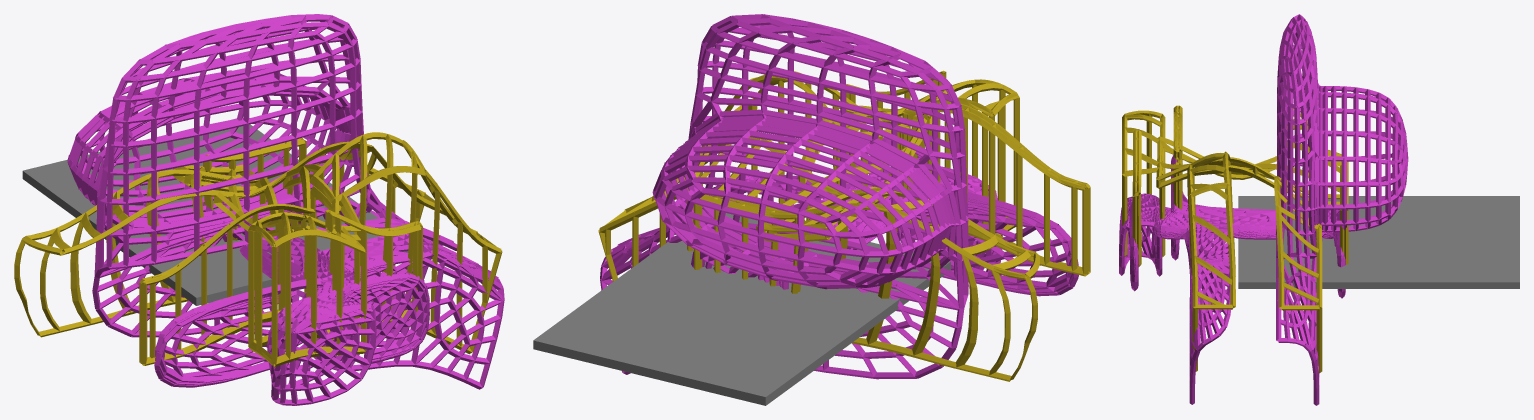
The model's file is max_out.FBX.
3 renders of one model, left to right at view 1: azimuth 30°, elevation 25°; view 2: azimuth 150°, elevation 25°; view 3: azimuth 270°, elevation 25°, orthographic. The views are drawn at different scales.
Visible parts, largest first — view 1: mesh, object 1, Box001; view 2: mesh, Box001, object 1; view 3: mesh, Box001, object 1.
Boxes of the visible parts, <box> form: mesh: <box>67,14,504,405</box>; object 1: <box>14,132,502,367</box>; Box001: <box>22,118,408,305</box>; mesh: <box>600,14,1078,379</box>; Box001: <box>533,213,950,405</box>; object 1: <box>598,70,1090,381</box>; mesh: <box>1119,14,1408,405</box>; Box001: <box>1238,196,1519,288</box>; object 1: <box>1122,105,1348,373</box>.
Bounding box in the file's own units: 72.08 × 58.82 × 73.34.
